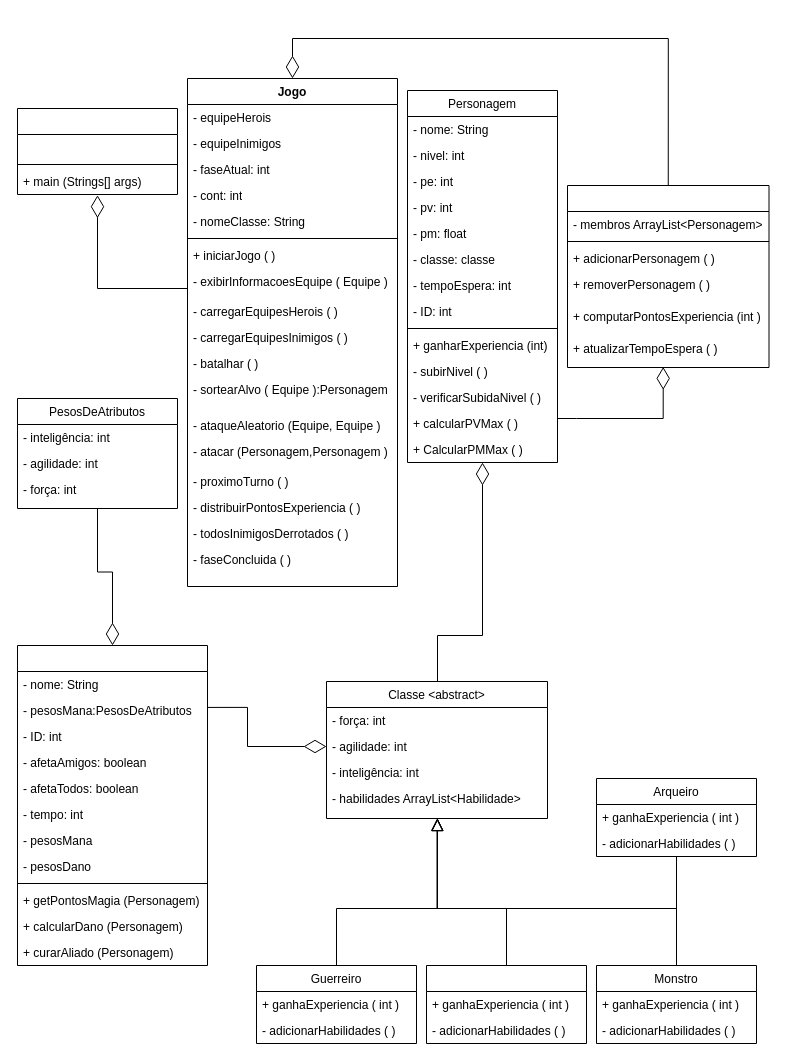
Image size: 787x1064. Some labels were removed from this diagram. Here are the shapes that lost their labels. From the top down, the box of each, then its label:
(16, 108, 178, 194): DungeonClash
(566, 184, 769, 368): Equipe
(16, 644, 208, 966): Habilidade
(426, 964, 586, 1044): Mago
